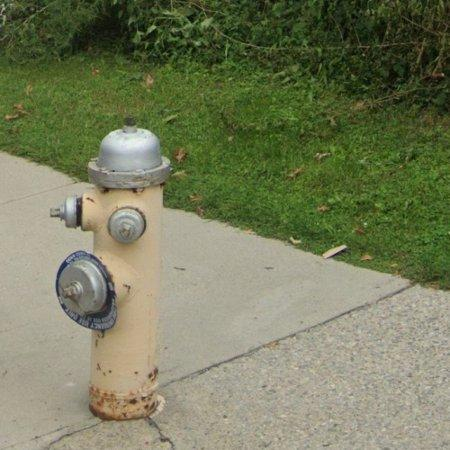a fire hydrant: (50, 120, 171, 421)
